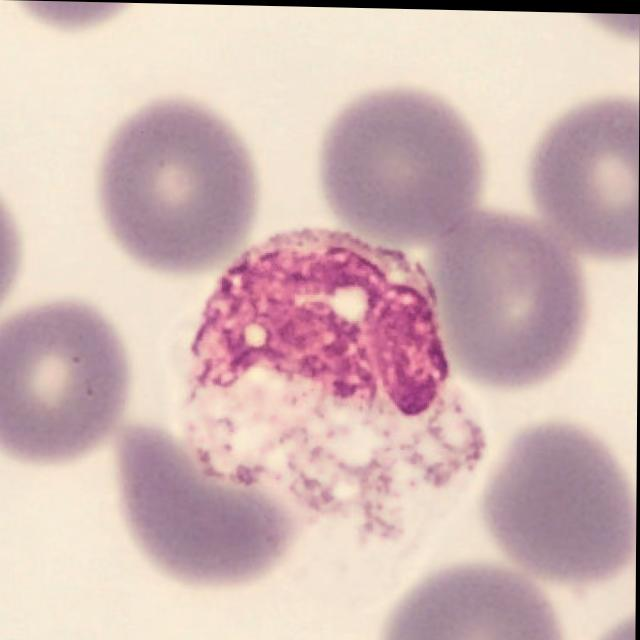Neutrofilo segmentado: (174, 224, 488, 537)
